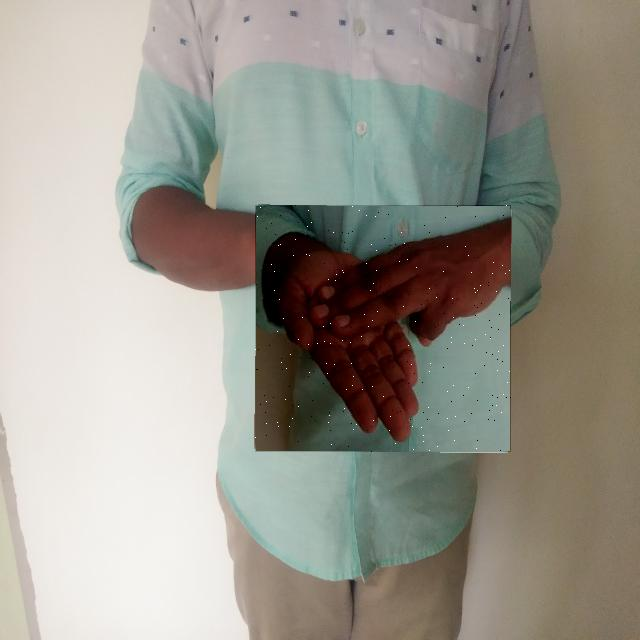M: (255, 205, 511, 452)
